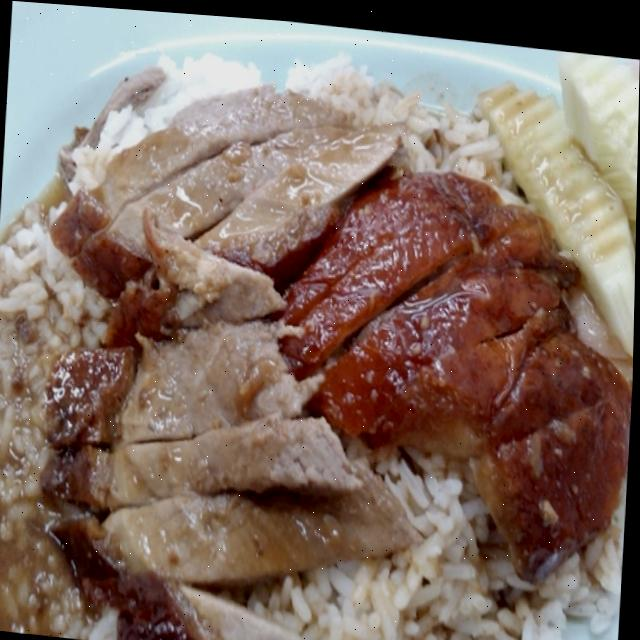米饭主食: (0, 15, 631, 640)
